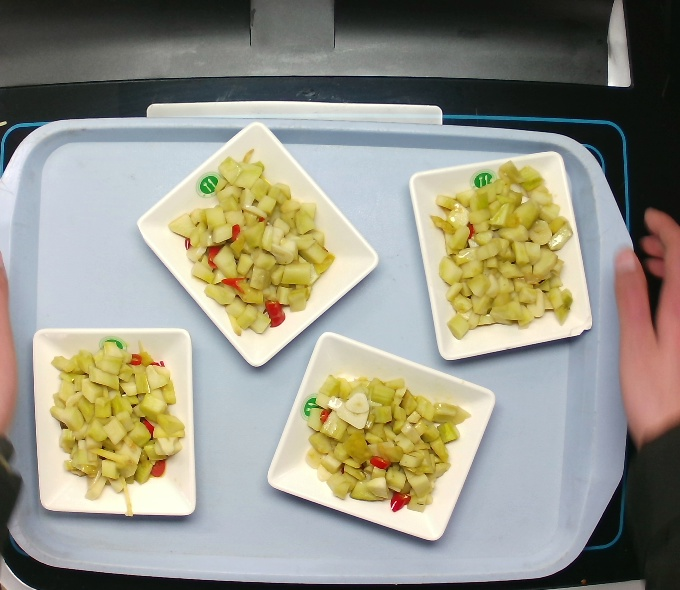wcq-YanHuaCaiGeng: (171, 161, 336, 336), (429, 160, 574, 341), (300, 377, 468, 513), (49, 335, 186, 492)
